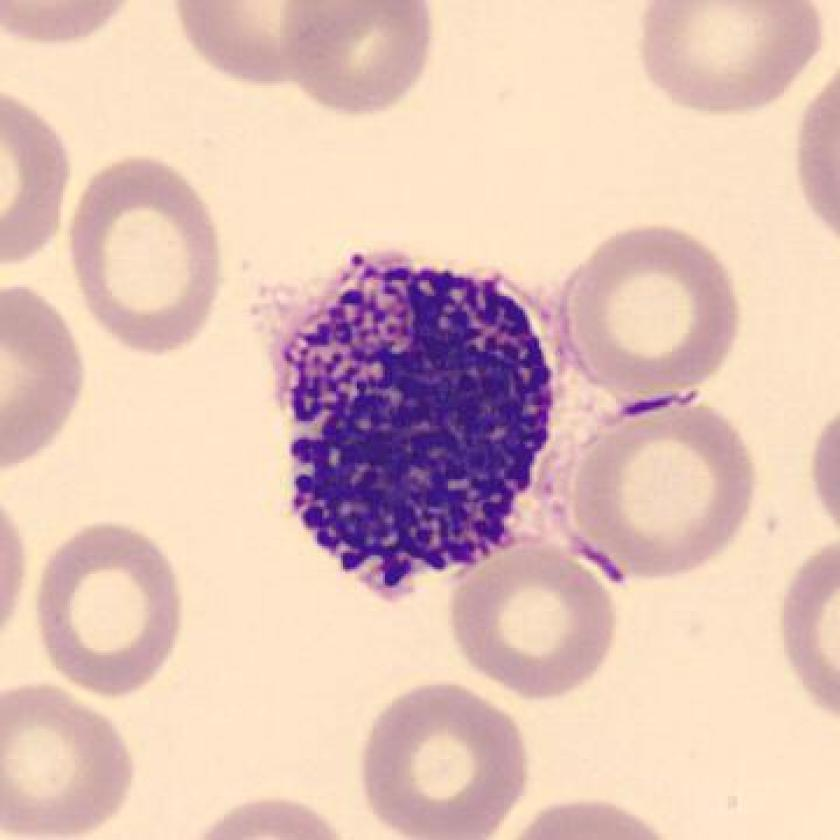basophil: (272, 249, 552, 605)
